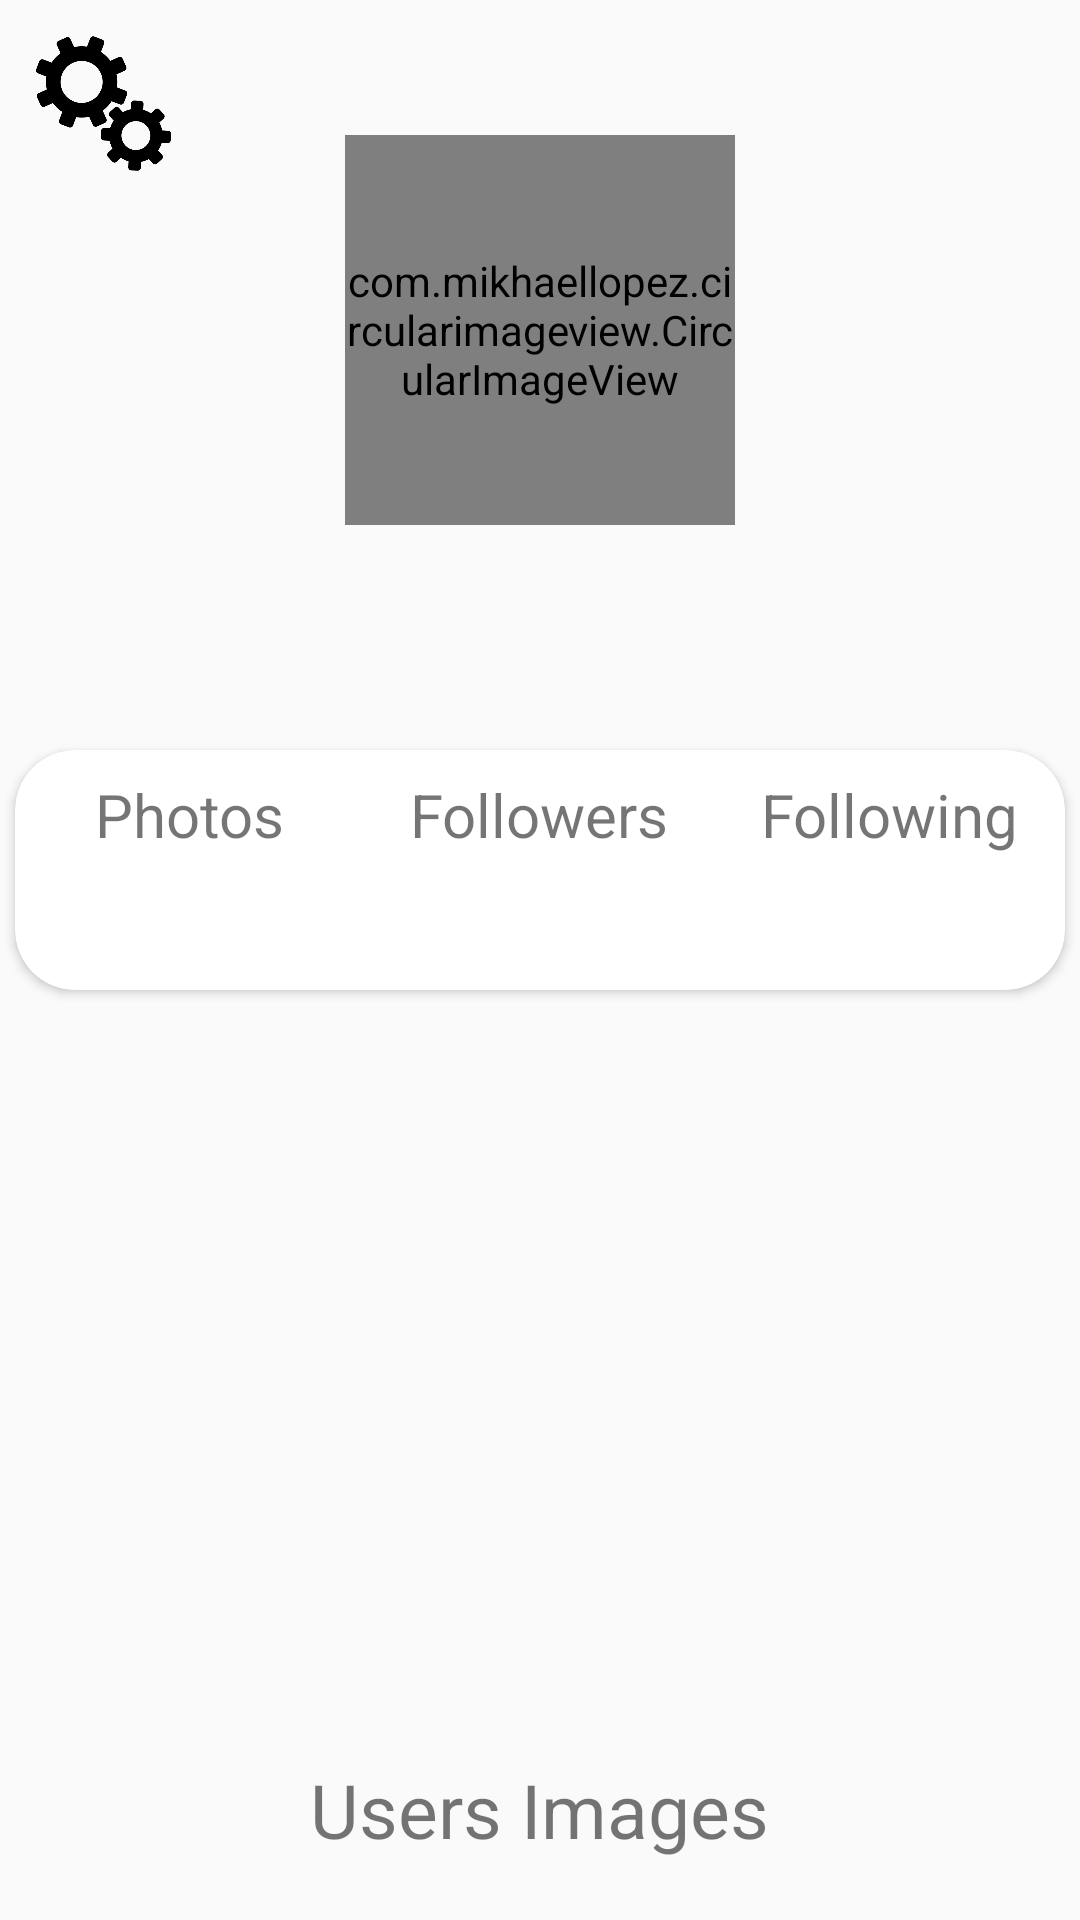

Locate icon controls on the screen. Image size 1080w x 1920h, boxes as bbox=(x1, y1, x2, y2).
settings: bbox=(36, 36, 171, 171)
